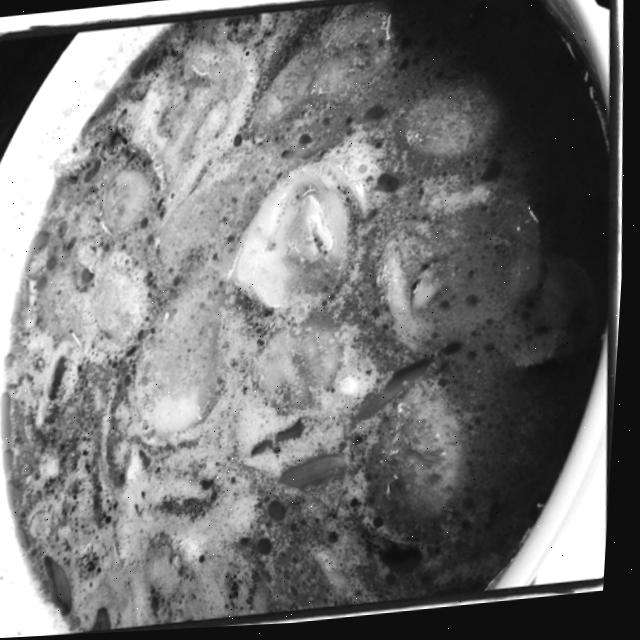汤锅炖物: (0, 0, 617, 628)
